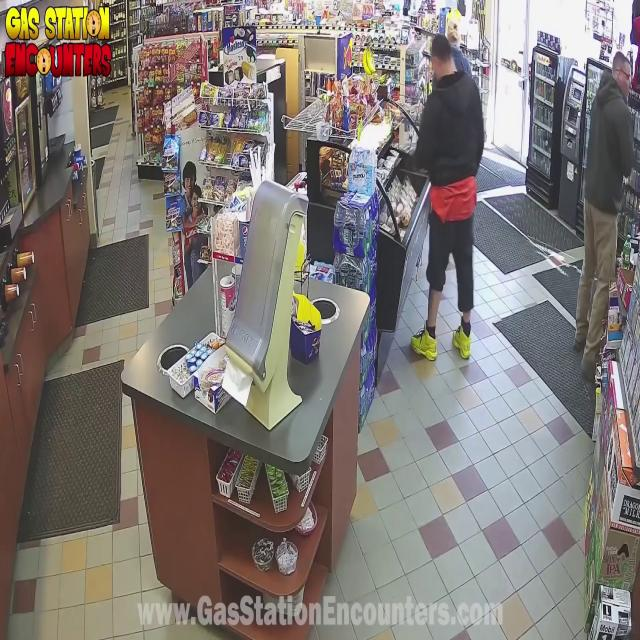normal: (407, 32, 488, 385), (563, 40, 640, 403)
